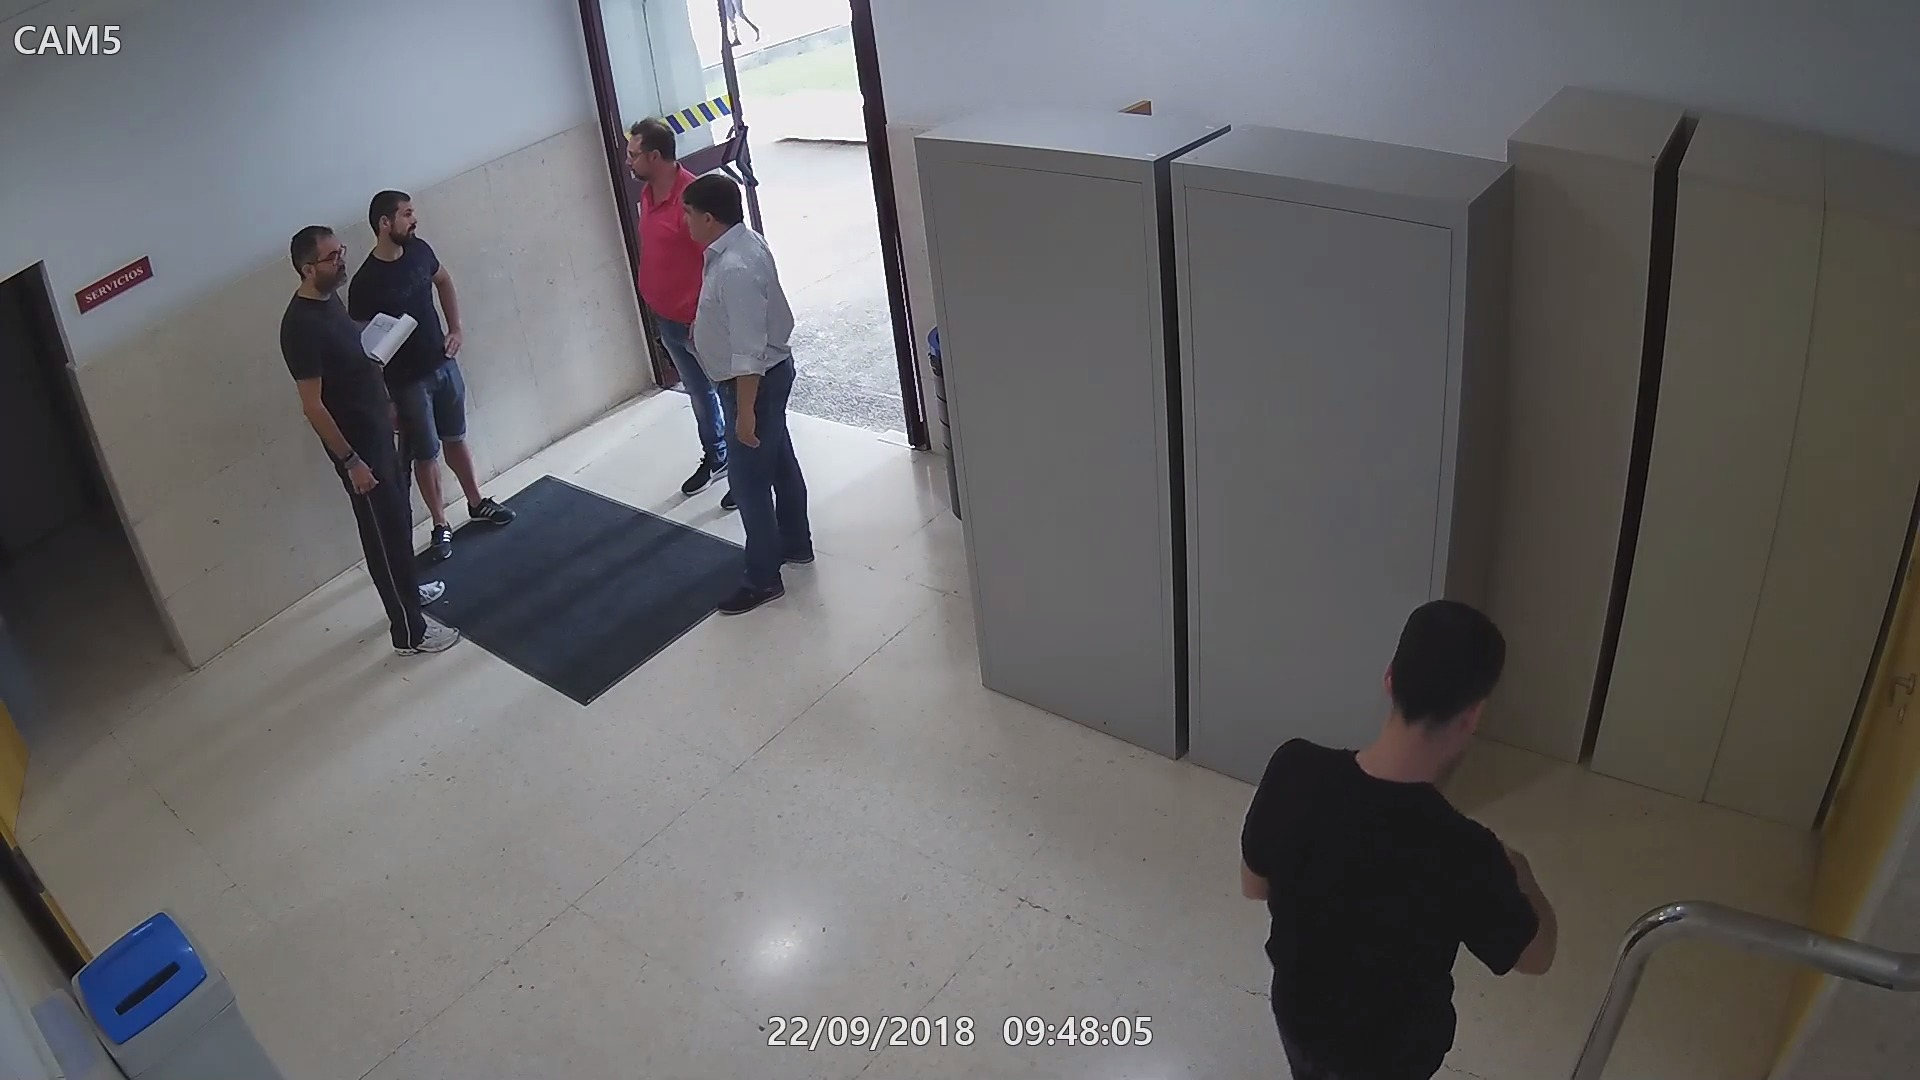Short_rifle: (384, 396, 415, 495)
